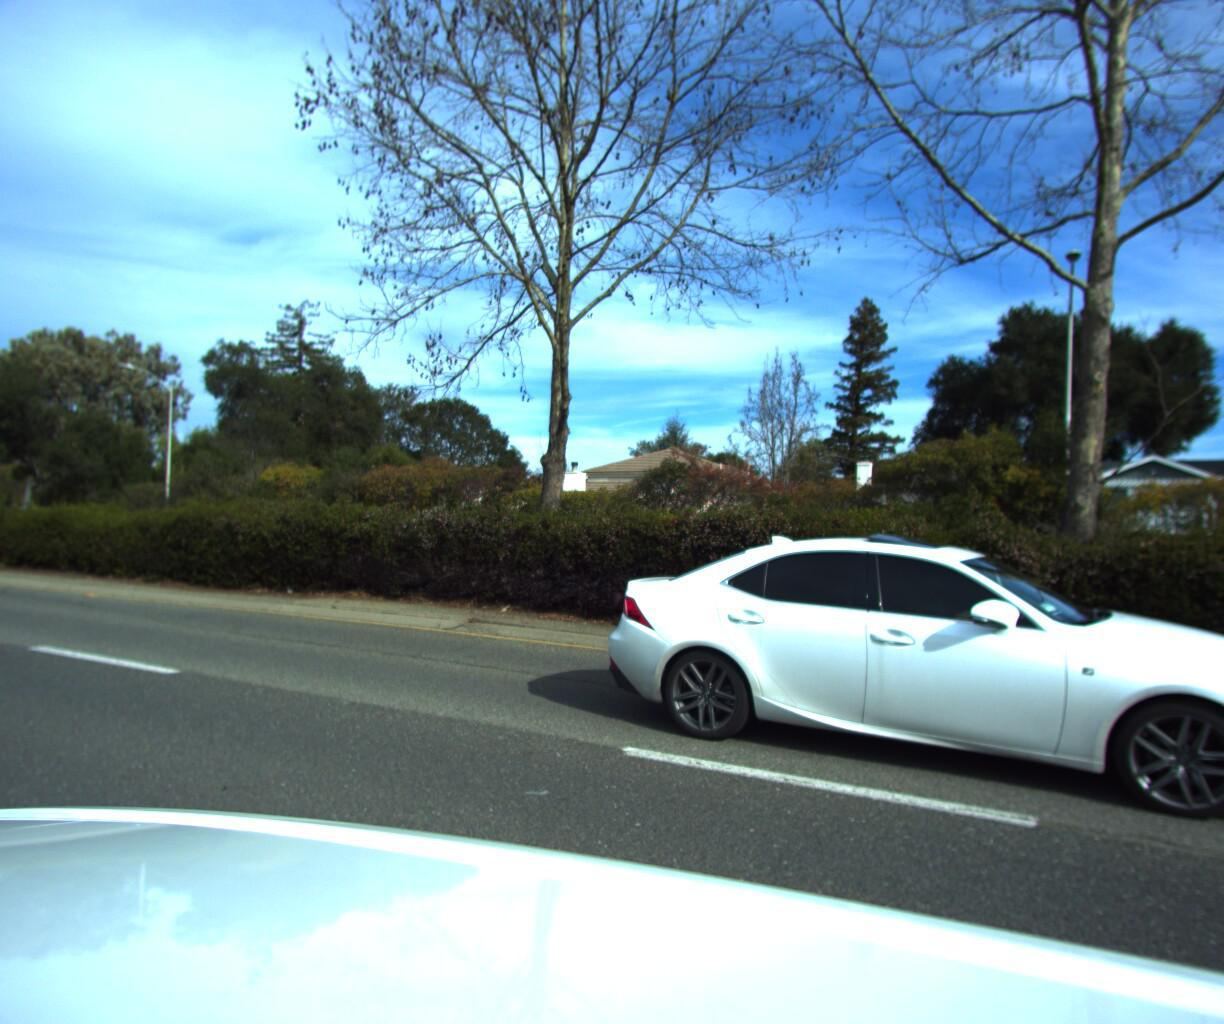car: (580, 508, 1224, 838)
